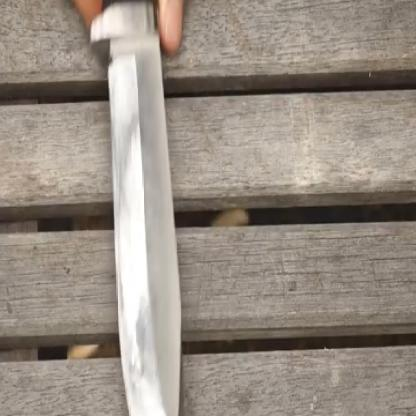knife: (55, 0, 211, 415)
